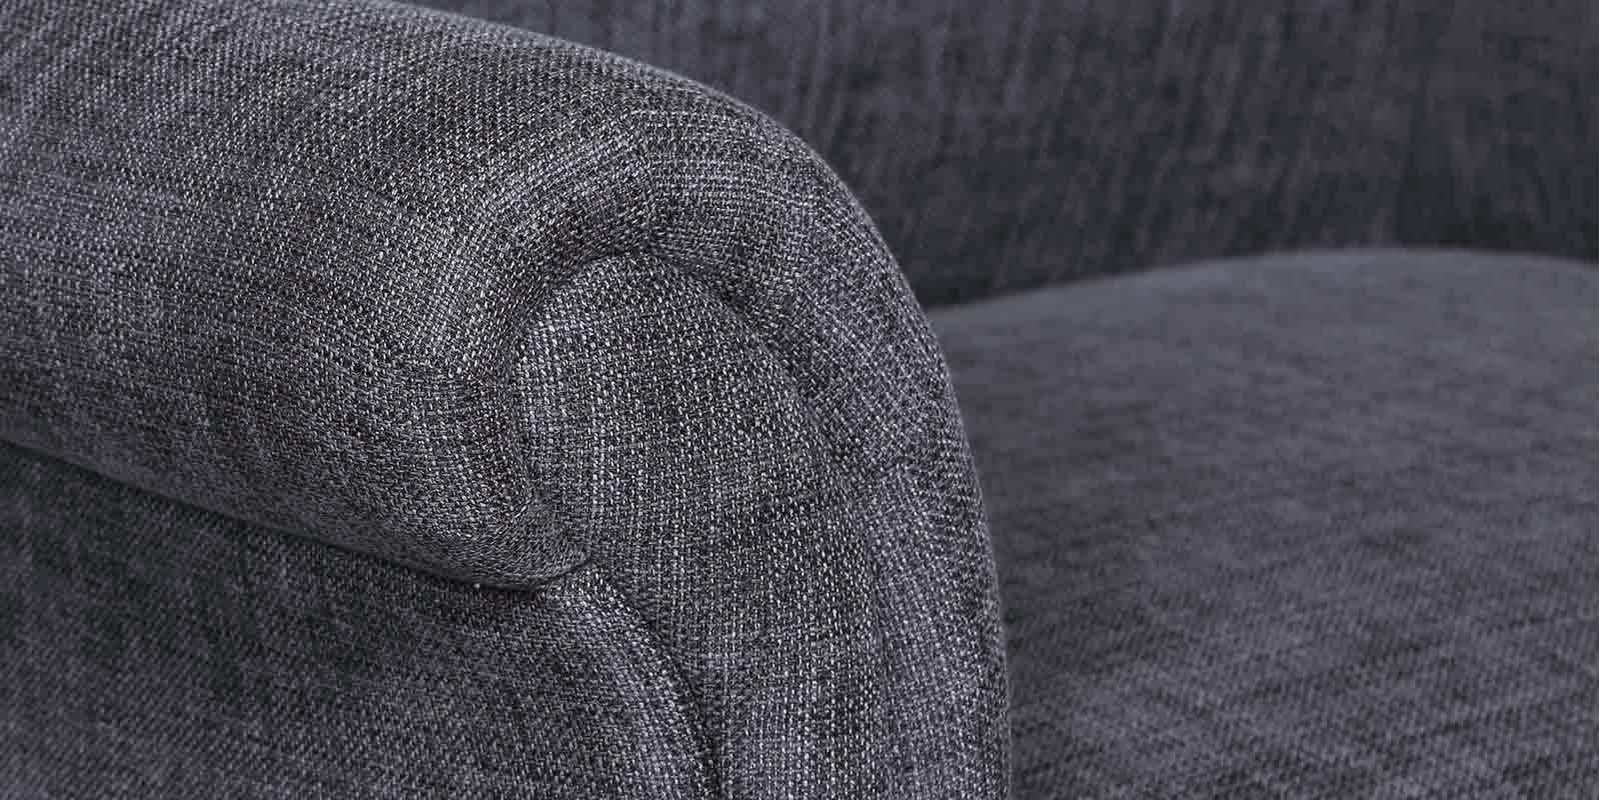Harleston Three Seater Sofa in Provincial Teak Finish by Amberville: (3, 3, 1584, 800)
